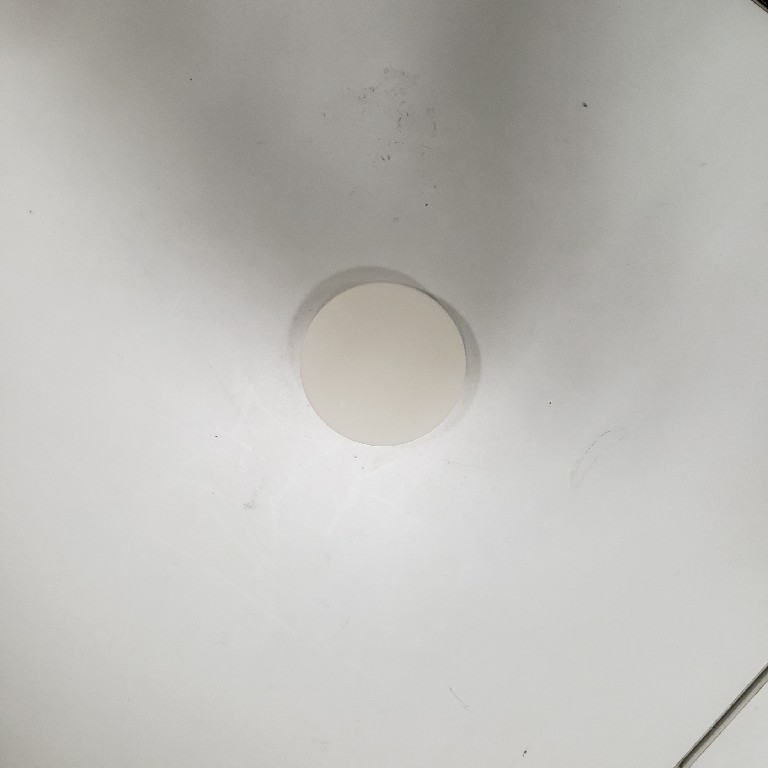ceramics: (294, 275, 473, 453)
